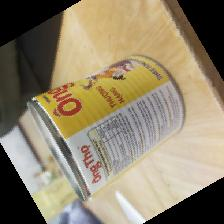Ong_tho: (26, 53, 187, 203)
